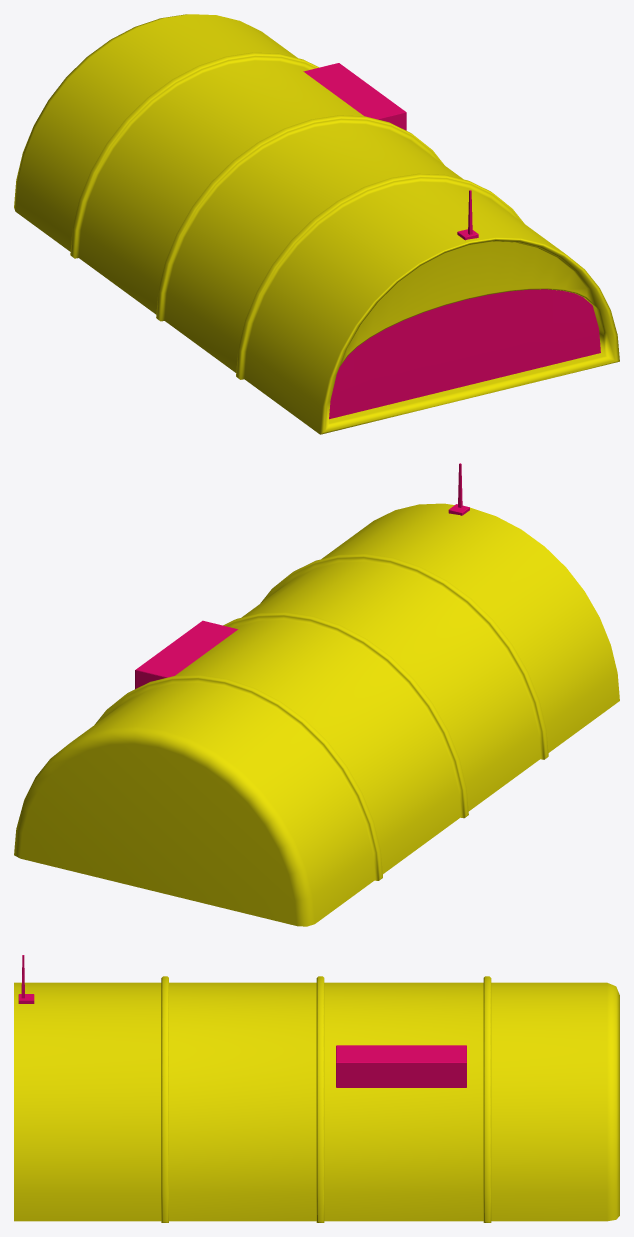
Rendered from uploads_files_2785239_Hangar_FBX.fbx.
3 renders of one model, top to bottom at view 1: azimuth 30°, elevation 25°; view 2: azimuth 150°, elevation 25°; view 3: azimuth 270°, elevation 25°, orthographic. The views are drawn at different scales.
Parts seen in each view (by area): view 1: Hangar1; view 2: Hangar1; view 3: Hangar1.
Boxes of the visible parts, x1,y1,x2,y2 form: Hangar1: [14, 14, 619, 434]; Hangar1: [14, 463, 619, 926]; Hangar1: [14, 955, 619, 1222].
Bounding box in the file's own units: 1279 × 799 × 2224.
